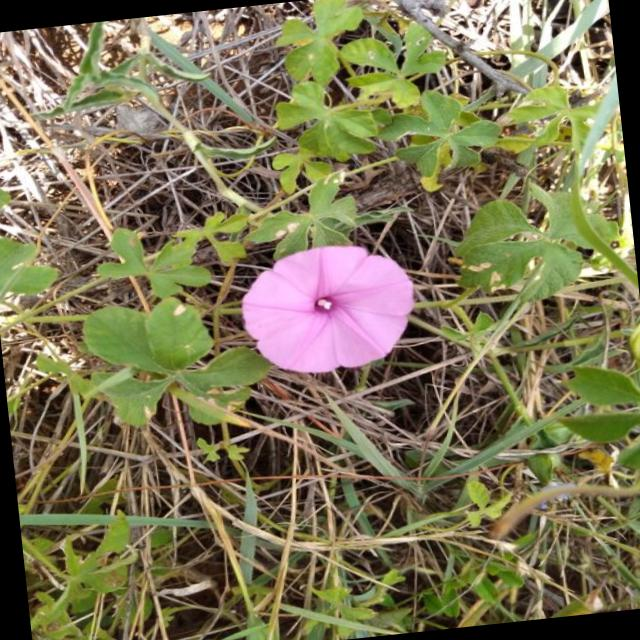ipomoea: (230, 234, 426, 384)
